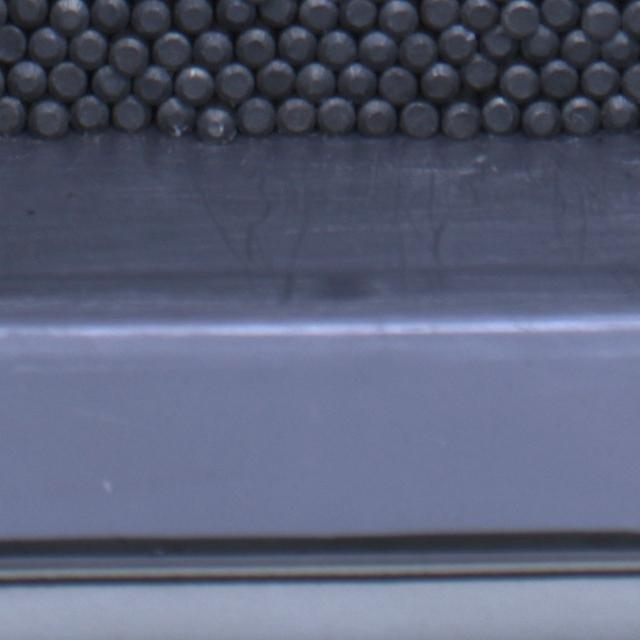tool: (236, 25, 276, 65), (6, 60, 46, 100), (215, 64, 255, 104), (599, 93, 639, 133), (155, 96, 195, 136), (27, 99, 69, 137), (110, 36, 150, 75), (236, 95, 276, 134), (421, 62, 461, 101), (132, 66, 172, 105), (69, 28, 108, 67), (539, 58, 579, 96), (28, 26, 68, 64), (297, 61, 337, 99), (582, 0, 622, 38), (150, 32, 190, 70), (438, 23, 478, 61), (174, 65, 214, 103), (90, 63, 130, 101), (442, 100, 482, 138), (400, 98, 440, 136), (500, 62, 540, 100), (600, 30, 640, 68), (257, 59, 297, 97), (519, 24, 559, 62), (318, 96, 357, 134), (338, 62, 377, 100), (194, 28, 233, 66), (49, 61, 89, 98), (379, 64, 417, 102), (482, 94, 520, 132), (358, 98, 396, 136), (562, 96, 600, 134), (522, 98, 560, 136), (561, 28, 600, 65), (276, 97, 316, 133), (580, 60, 620, 96), (360, 30, 398, 67), (110, 95, 148, 132), (320, 29, 358, 66), (72, 95, 110, 132), (378, 1, 418, 36), (280, 26, 318, 62), (400, 32, 438, 68), (460, 54, 498, 90), (50, 0, 92, 32), (131, 0, 171, 33), (200, 108, 236, 144), (481, 23, 518, 58), (501, 0, 539, 34), (90, 0, 131, 30), (298, 0, 338, 30), (460, 0, 499, 30), (173, 1, 213, 30), (420, 0, 460, 27), (8, 0, 50, 25), (0, 94, 26, 134), (542, 1, 580, 28), (215, 0, 256, 25), (340, 0, 376, 28), (1, 23, 27, 61), (258, 0, 299, 24), (622, 61, 640, 99), (622, 0, 640, 37), (0, 0, 8, 29)
